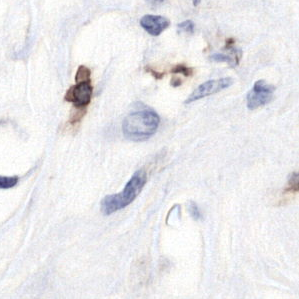Lymphocyte: (68, 80, 95, 106)
